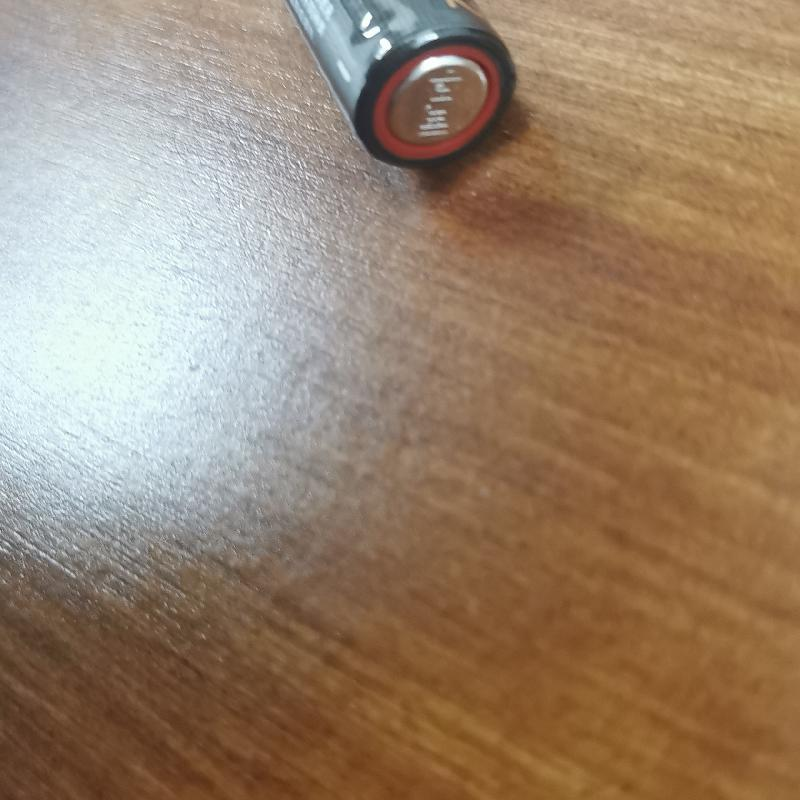battery: (286, 1, 524, 172)
